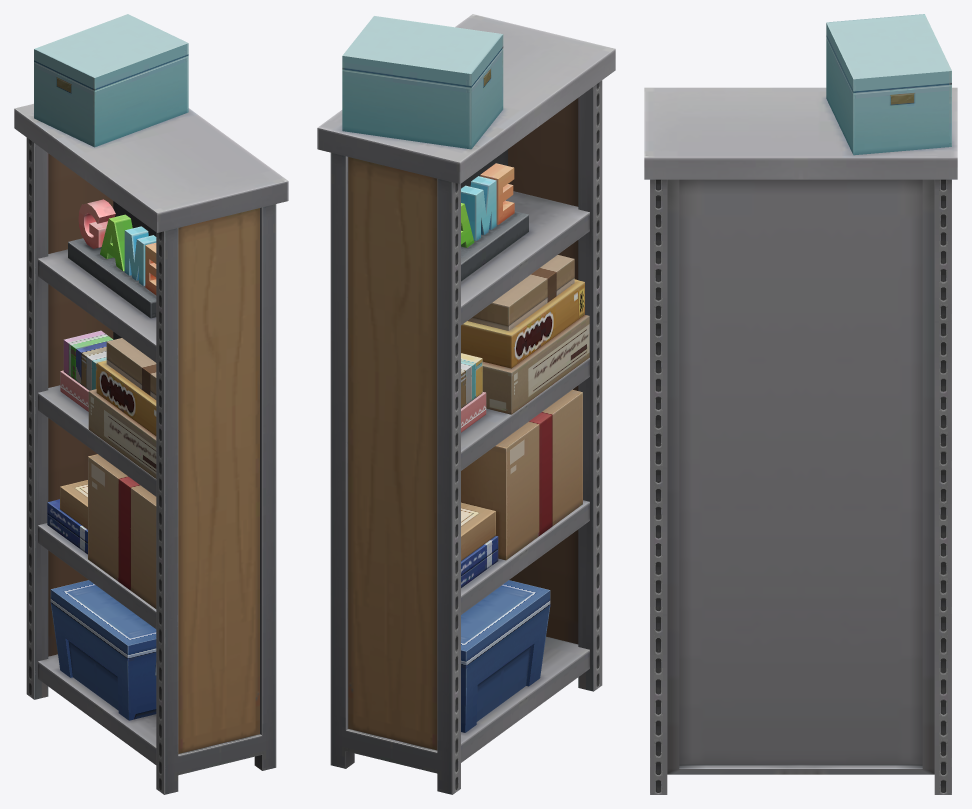
File: my_gamedevdept_01_shelf_02.glb
The picture shows the model from 3 angles, left to right: view 1: azimuth 30°, elevation 25°; view 2: azimuth 150°, elevation 25°; view 3: azimuth 270°, elevation 25°; orthographic projection. The views are drawn at different scales.
Visible parts, largest first — view 1: my_gamedevdept_01_shelf_02; view 2: my_gamedevdept_01_shelf_02; view 3: my_gamedevdept_01_shelf_02.
Part boxes in pixels (bbox=[...]): my_gamedevdept_01_shelf_02: bbox=[14, 14, 288, 794]; my_gamedevdept_01_shelf_02: bbox=[317, 14, 615, 794]; my_gamedevdept_01_shelf_02: bbox=[644, 14, 957, 794].
Size of the model in its own units: 0.00303 by 0.0145 by 0.00572.
Materials: 1 (1 with a texture image).
